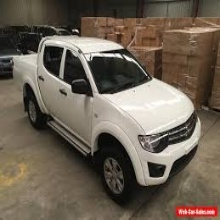no damage: (12, 35, 204, 206)
